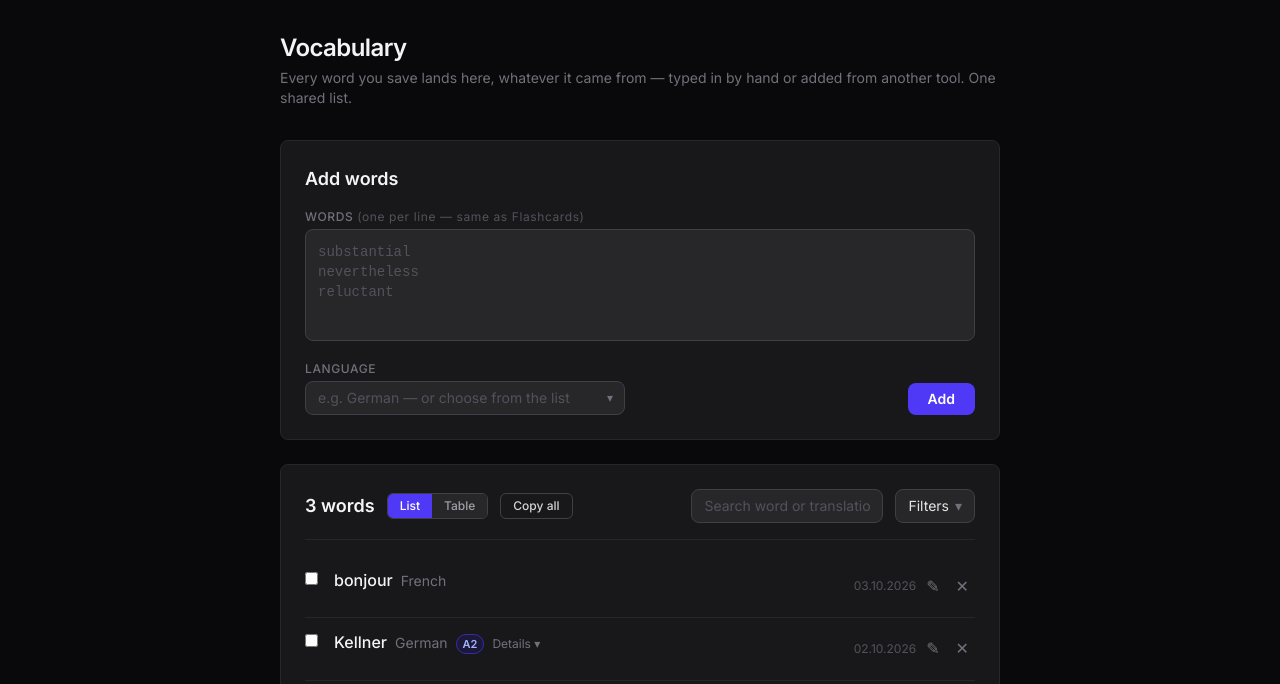
Test: deleting several words at once › warns when a filter is hiding some of the ticked words
Click the checkbox titled "Select" next to "bonjour" at (312, 578), box [305,572,318,585]
(page scrolled)
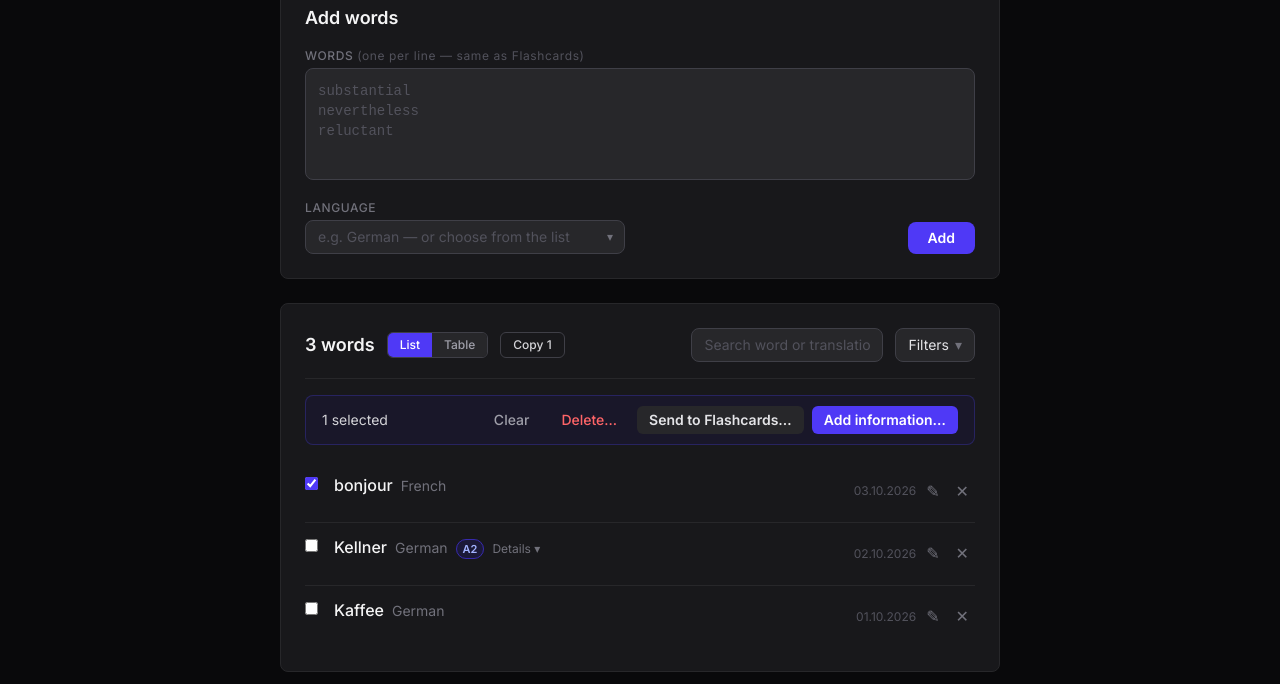
Click the checkbox titled "Select" next to "Kellner" at (312, 546), box [305,539,318,552]
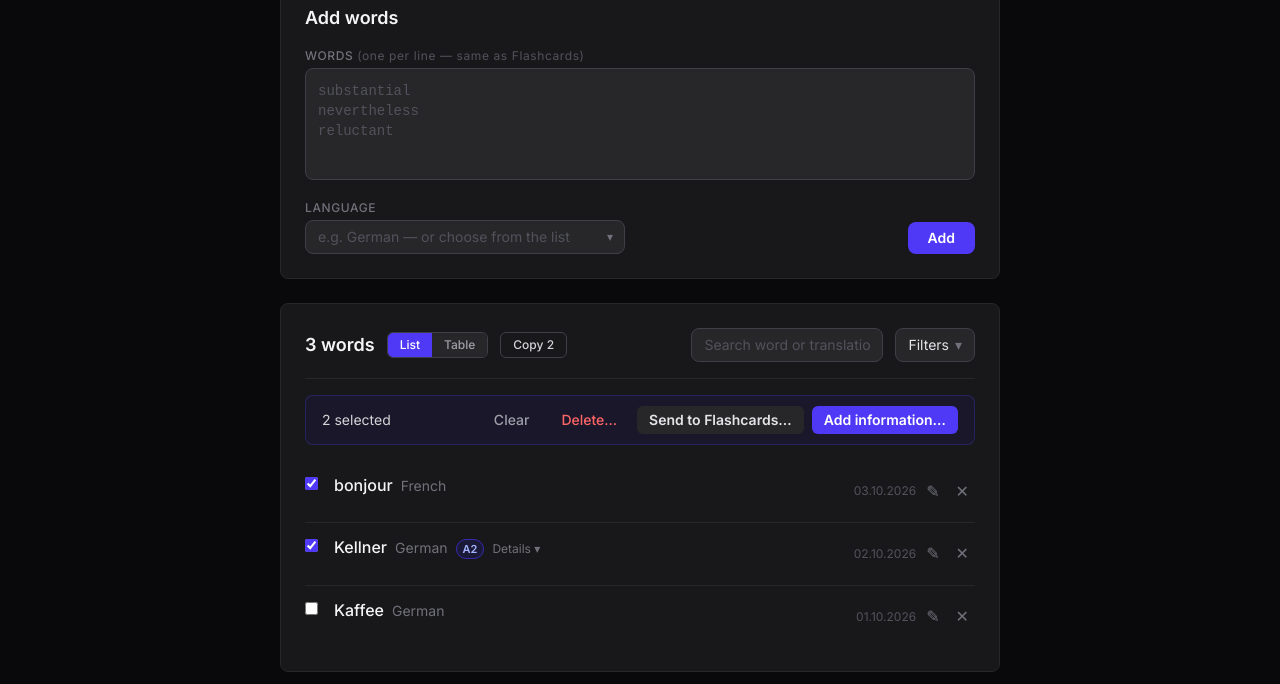
Click the button "Filters▾" at (935, 345), box [895,328,975,362]
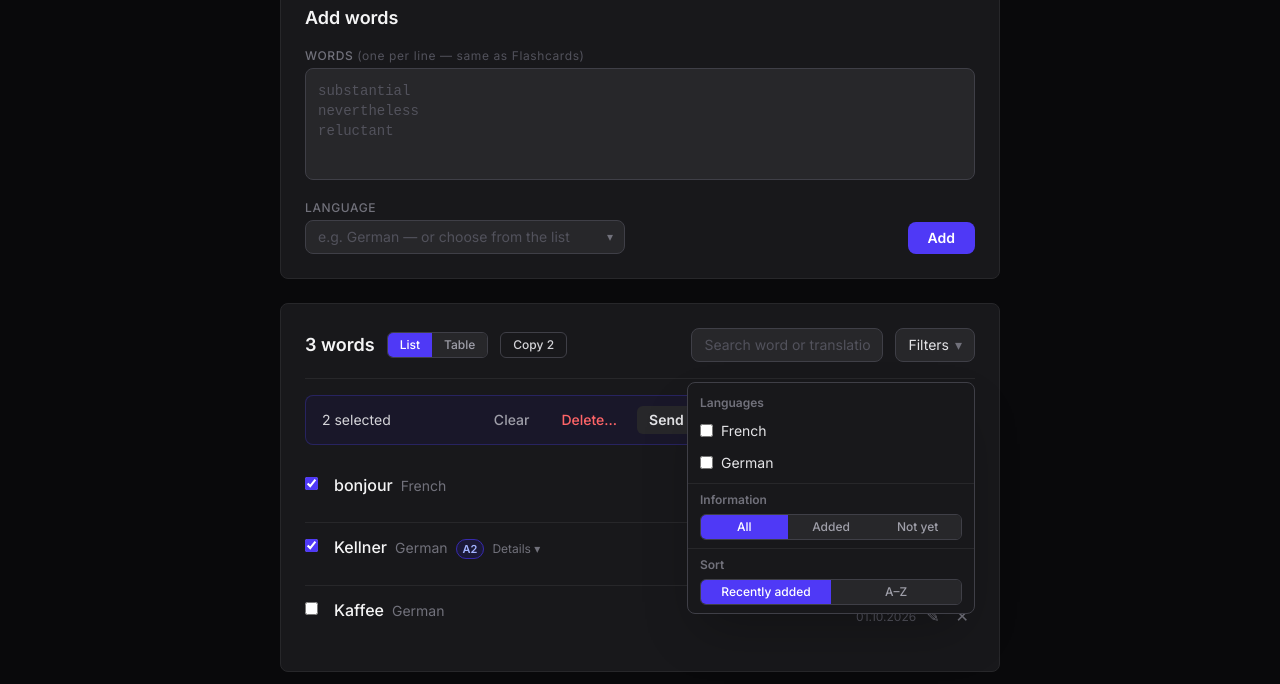
Click the checkbox labelled "German" at (706, 463), box [700,456,713,469]
(page scrolled)
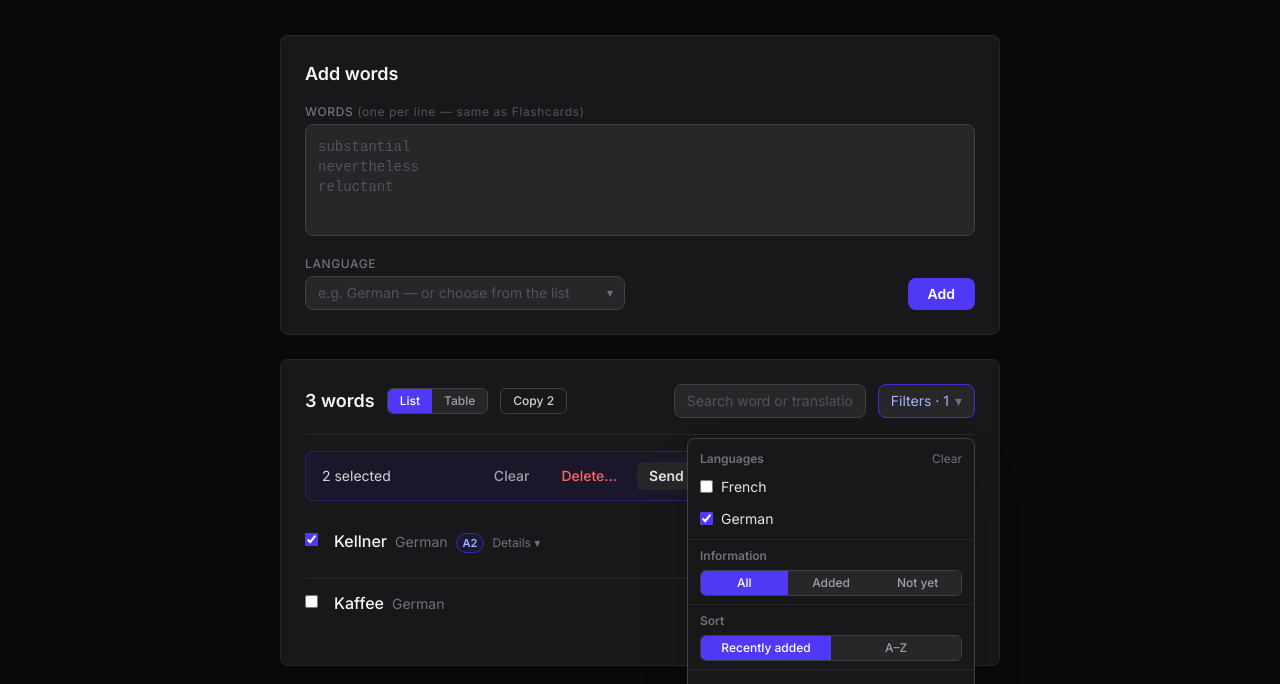
Now the text "bonjour" is gone
Click the button "Delete…" at (589, 476), box [549,462,629,490]
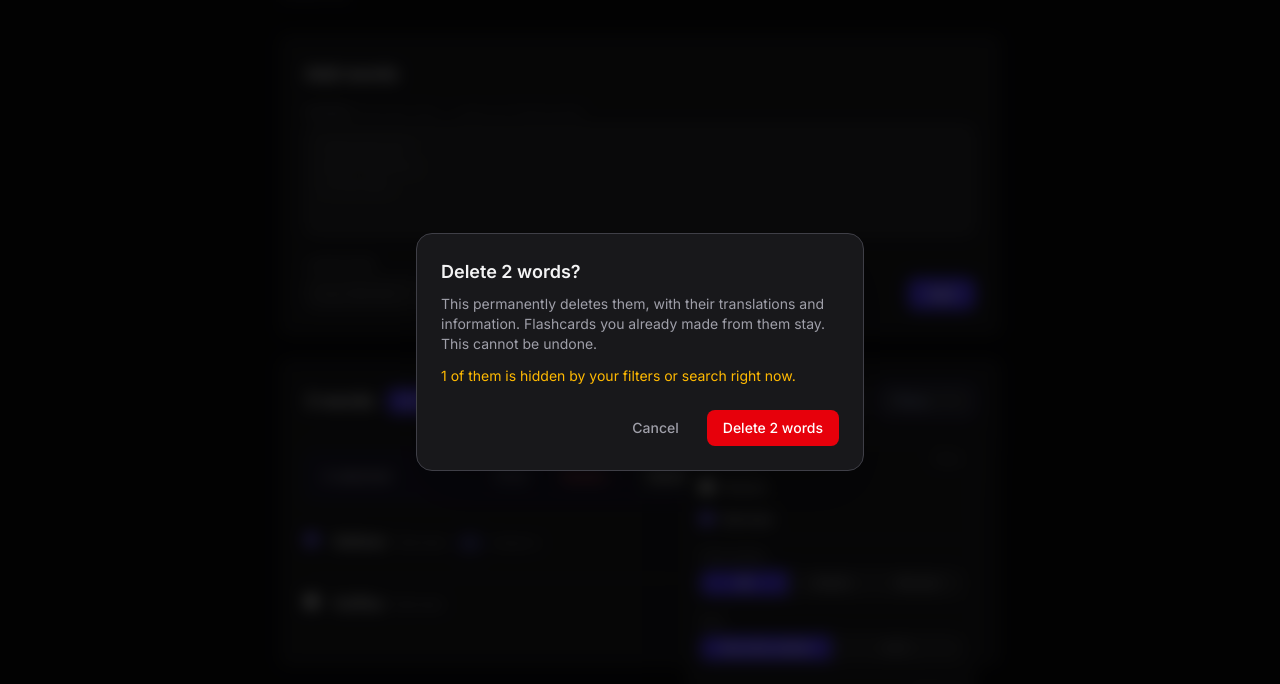
Now the dialog shows "1 of them is hidden by your filters or search right now.", box [441,367,796,384]
